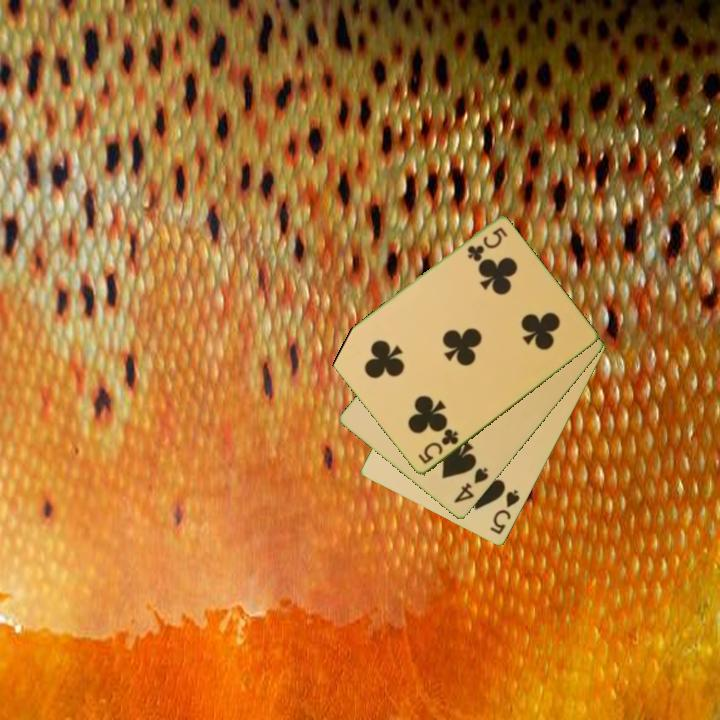4s: (450, 464, 491, 507)
5c: (414, 425, 462, 467), (463, 224, 510, 264)
5s: (487, 487, 523, 538)
